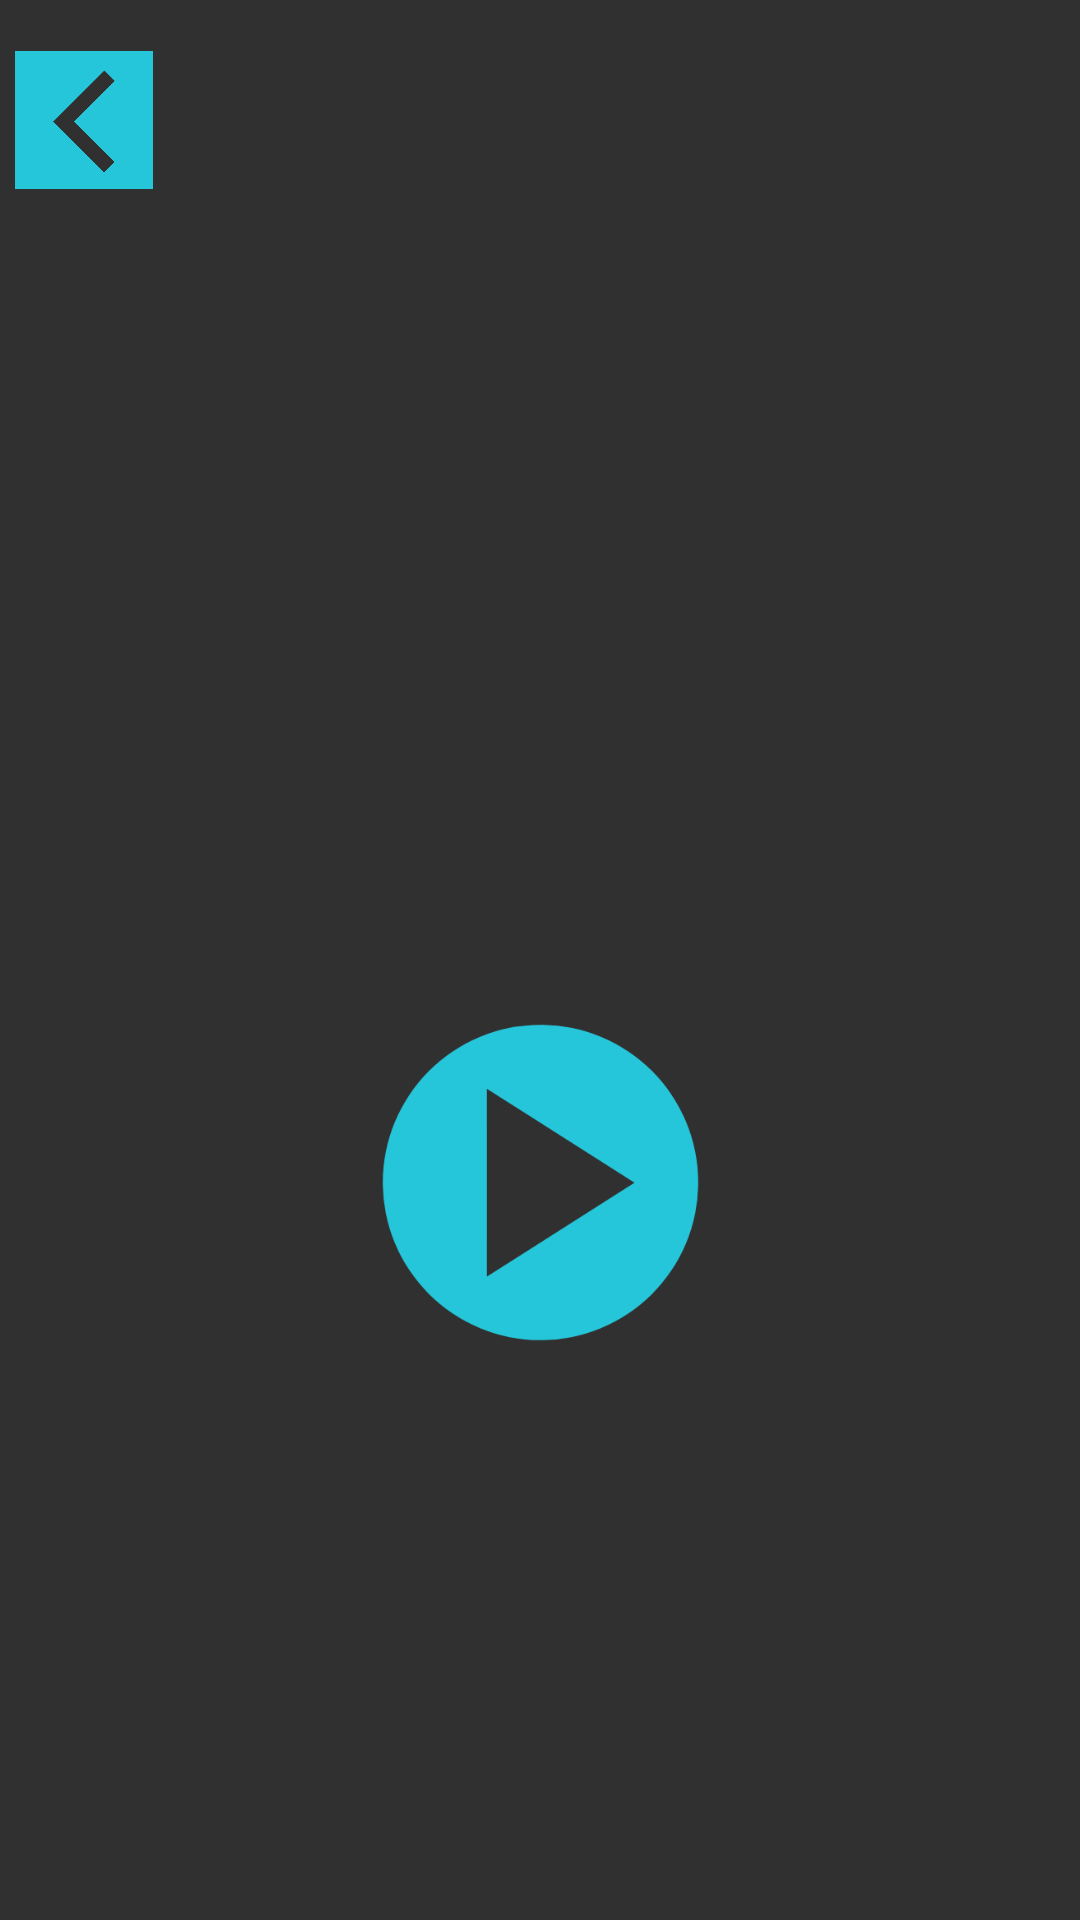

Where to tap for icons on this 1080w x 1920h app screen, as (x=x, y=y):
playgroundbackbtn: (x=84, y=120)
